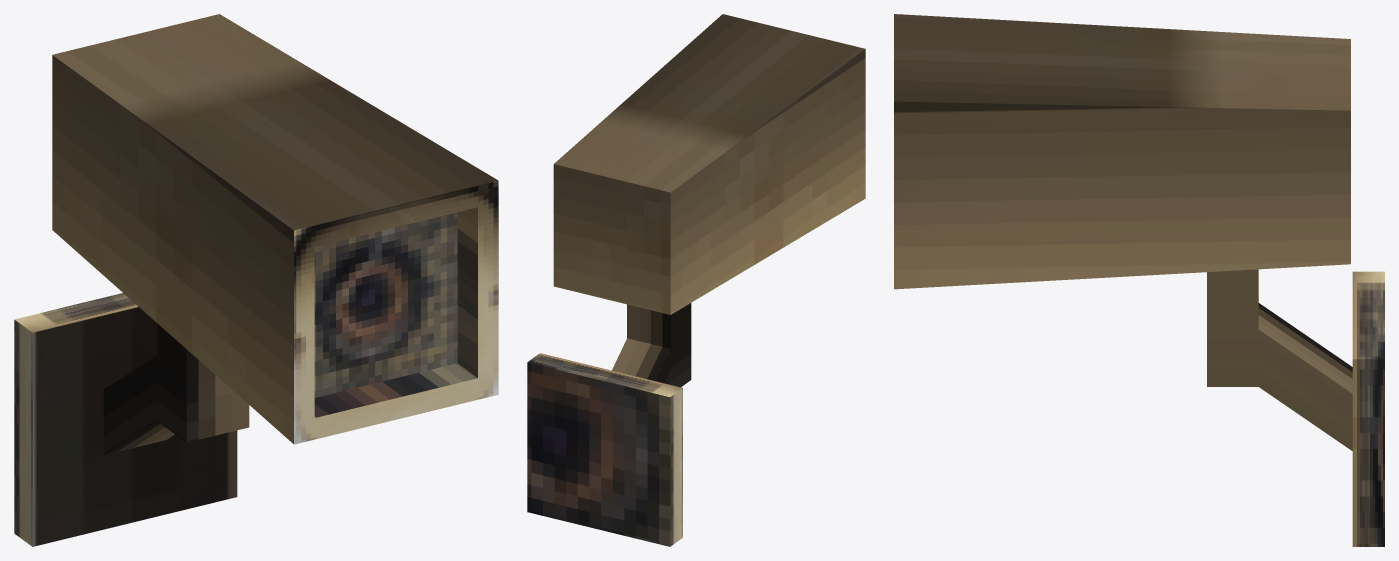
File: SecurityCamera.fbx
3 views of the same model, side by side, from view 1: azimuth 30°, elevation 25°; view 2: azimuth 150°, elevation 25°; view 3: azimuth 270°, elevation 25° (orthographic). The views are drawn at different scales.
Visible parts, largest first — view 1: Cube.001, Cube; view 2: Cube.001, Cube; view 3: Cube.001, Cube.
Part boxes in pixels (left/top/right/bottom): Cube.001: left=52, top=14, right=498, bottom=444; Cube: left=14, top=293, right=249, bottom=546; Cube.001: left=553, top=14, right=865, bottom=314; Cube: left=527, top=303, right=691, bottom=546; Cube.001: left=894, top=14, right=1350, bottom=289; Cube: left=1207, top=269, right=1384, bottom=546.
Size of the model in its own units: 200 by 474 by 474.
